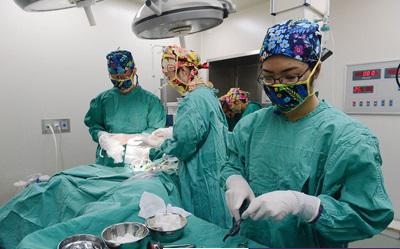OK: (265, 65, 309, 113), (166, 72, 192, 97), (111, 72, 135, 92), (229, 101, 244, 116)
